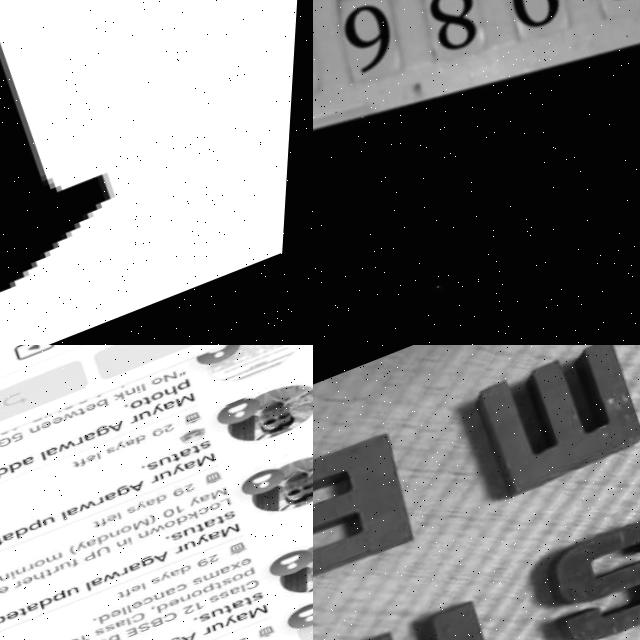0: (165, 508, 178, 518), (72, 637, 84, 640)
1: (177, 504, 188, 514), (199, 600, 209, 610), (84, 633, 94, 640)
2: (567, 0, 640, 37), (210, 552, 223, 564), (164, 422, 177, 433), (187, 604, 199, 615), (240, 636, 253, 640)
5: (175, 487, 188, 498), (12, 432, 25, 442)
6: (316, 0, 435, 101)
8: (399, 0, 523, 84)
9: (481, 0, 601, 58), (313, 0, 358, 124), (200, 556, 212, 568), (154, 426, 167, 437)
E: (313, 436, 422, 592)
K: (336, 596, 506, 640)
L: (0, 0, 160, 322)
M: (467, 345, 640, 498)
S: (533, 503, 640, 640)
